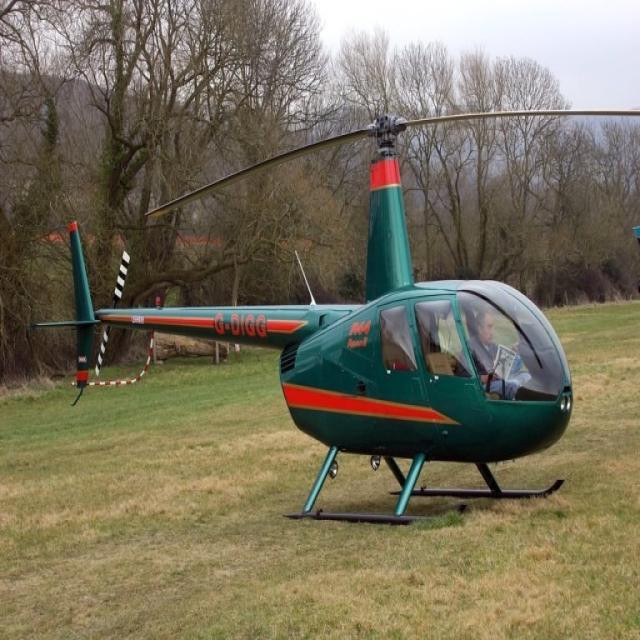CIV_HELO: (31, 115, 574, 533)
